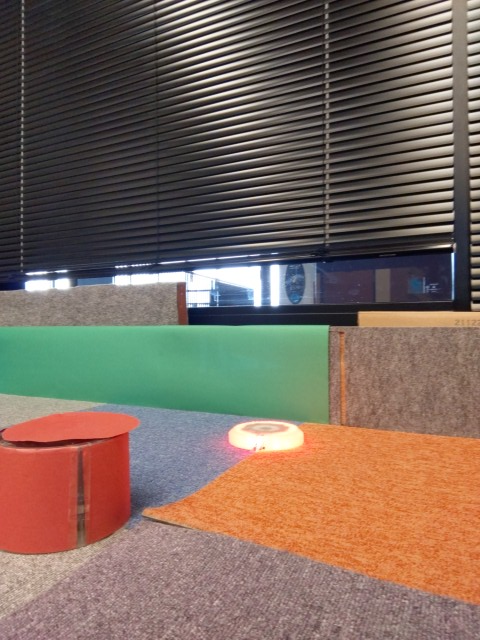r: (220, 415, 307, 453)
